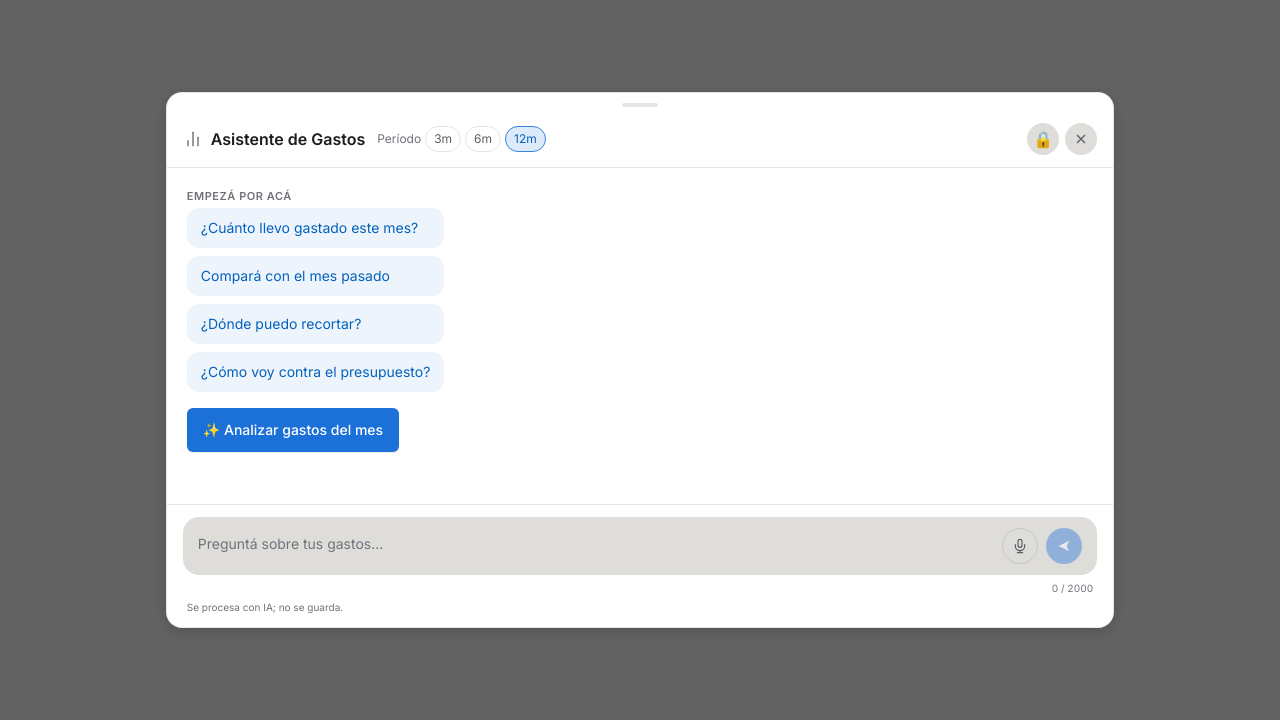
Scenario: AssistantShell › puts the transcript in the composer without sending it
This screenshot has width=1280, height=720.
(page scrolled)
Click the button named "grabar".
click(1020, 546)  # box [1002, 528, 1038, 564]
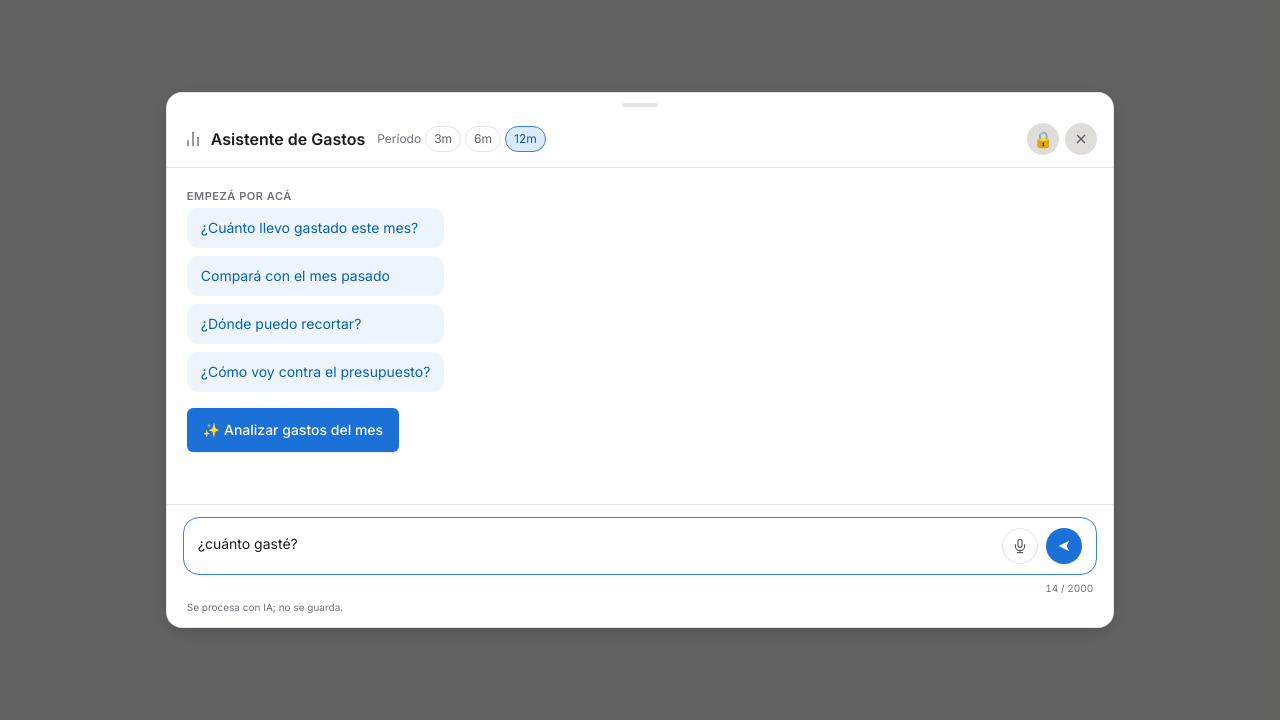
Result: the text box holds "¿cuánto gasté?" at [198, 531, 994, 558]
